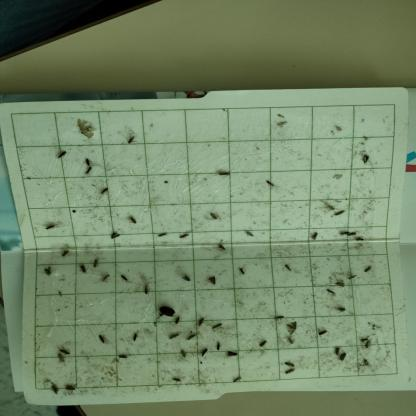prays_oleae: (214, 157, 234, 185), (165, 324, 184, 351), (285, 314, 301, 338), (206, 267, 219, 296), (306, 228, 322, 250), (176, 226, 193, 246), (333, 271, 347, 295), (230, 368, 246, 388), (78, 123, 98, 139), (279, 257, 294, 278), (126, 126, 137, 154), (153, 227, 170, 245), (272, 306, 288, 325), (332, 298, 348, 317), (96, 184, 111, 204), (183, 267, 196, 290), (333, 204, 350, 221), (44, 215, 60, 233), (265, 172, 277, 196), (225, 345, 240, 364), (243, 224, 257, 244), (212, 316, 225, 336), (58, 341, 74, 357), (170, 373, 185, 390), (362, 258, 374, 279), (48, 375, 58, 400), (216, 234, 227, 256), (194, 311, 208, 328), (54, 350, 68, 367), (238, 259, 248, 282), (66, 379, 82, 393), (199, 343, 211, 361), (337, 223, 349, 241), (108, 229, 120, 246), (256, 334, 268, 351), (43, 262, 53, 282), (348, 226, 359, 244), (117, 272, 130, 287), (283, 352, 295, 368), (208, 209, 219, 226), (317, 327, 328, 344), (99, 271, 113, 284), (187, 332, 201, 345), (58, 247, 70, 262), (338, 350, 348, 368), (324, 287, 336, 302), (141, 286, 152, 302), (330, 342, 339, 361), (56, 147, 66, 164), (283, 367, 296, 380), (78, 263, 89, 278), (125, 216, 140, 227), (357, 229, 366, 247), (173, 313, 181, 333), (117, 352, 130, 364), (81, 155, 92, 169), (213, 339, 222, 356), (92, 253, 100, 271), (179, 346, 189, 358), (130, 334, 140, 345), (85, 164, 91, 180)
